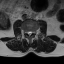CCS_normal: (28, 29, 30, 38)
LFS_normal: (32, 28, 35, 35)
LLS_normal: (30, 29, 32, 35)
RFS_normal: (24, 29, 26, 35)
RLS_normal: (26, 29, 28, 36)
